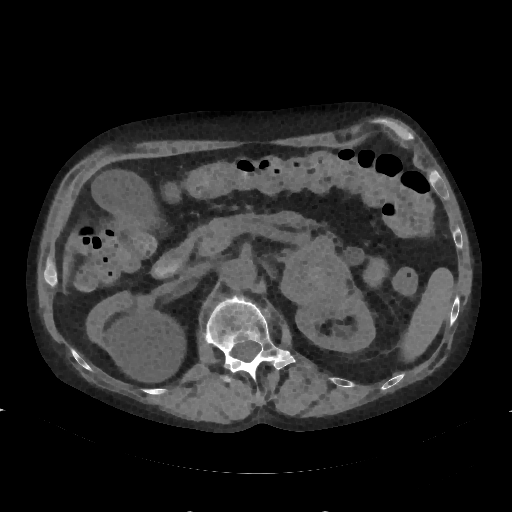Lesion: (107, 308, 189, 387), (277, 246, 358, 308)
